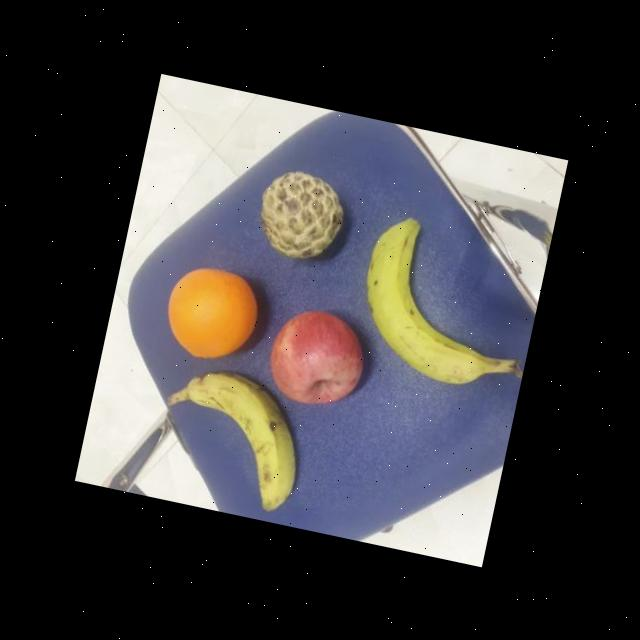Sakya fruit: (247, 162, 352, 268)
apple: (258, 298, 374, 416)
banana: (347, 202, 526, 392), (165, 360, 319, 512)
orange: (156, 258, 267, 368)
